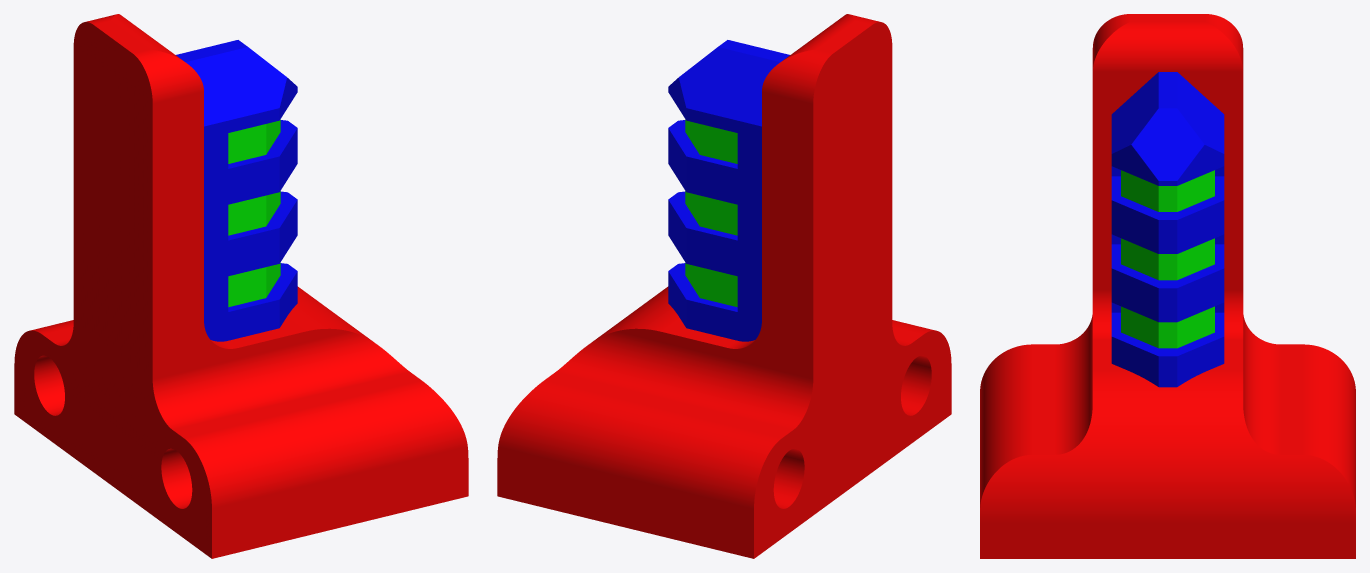
File: shieldwall_end_cap.gltf
3 renders of one model, left to right at view 1: azimuth 30°, elevation 25°; view 2: azimuth 150°, elevation 25°; view 3: azimuth 270°, elevation 25°, orthographic. The views are drawn at different scales.
Visible parts, largest first — view 1: frame, efedd7c8-156f-11f1-b33b-acf46620c64a, window; view 2: frame, efedd7c8-156f-11f1-b33b-acf46620c64a, window; view 3: frame, efedd7c8-156f-11f1-b33b-acf46620c64a, window.
Part boxes in pixels (x1,y1,x2,y2): frame: [14, 14, 468, 558]; efedd7c8-156f-11f1-b33b-acf46620c64a: [176, 40, 297, 341]; window: [228, 119, 280, 307]; frame: [497, 14, 951, 558]; efedd7c8-156f-11f1-b33b-acf46620c64a: [668, 40, 789, 341]; window: [685, 119, 737, 307]; frame: [980, 14, 1355, 558]; efedd7c8-156f-11f1-b33b-acf46620c64a: [1111, 72, 1224, 387]; window: [1121, 170, 1214, 348].
Bounding box in the file's own units: 15 × 25 × 20.
